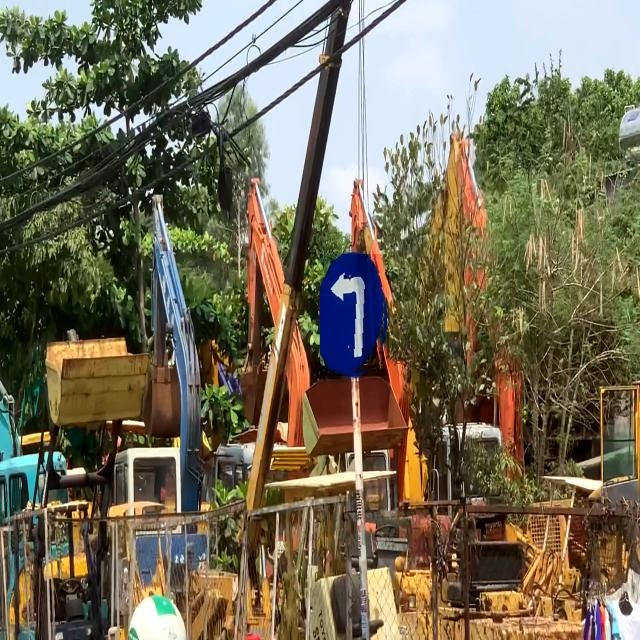bien_hieu_lenh: (320, 254, 389, 376)
